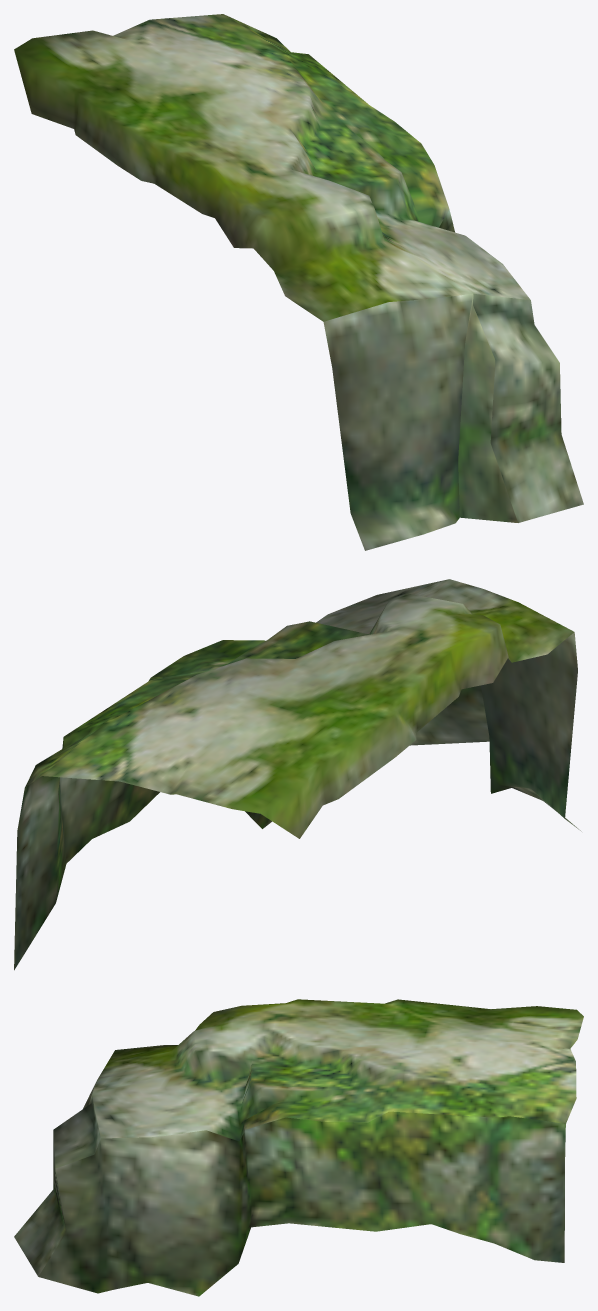
Rendered from S_Rock_Green048_1060_4.fbx.
3 views of the same model, one above another, from view 1: azimuth 30°, elevation 25°; view 2: azimuth 150°, elevation 25°; view 3: azimuth 270°, elevation 25° (orthographic). The views are drawn at different scales.
Parts seen in each view (by area): view 1: S_Rock_Green048_1060_4; view 2: S_Rock_Green048_1060_4; view 3: S_Rock_Green048_1060_4.
Boxes of the visible parts, x1,y1,x2,y2 form: S_Rock_Green048_1060_4: (14,14,583,550); S_Rock_Green048_1060_4: (14,579,581,970); S_Rock_Green048_1060_4: (14,999,583,1296).
Bounding box in the file's own units: 714 × 700 × 1693.
1 material, 1 textured.
